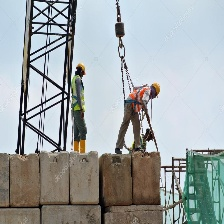person: (116, 80, 162, 154), (72, 59, 88, 155)
